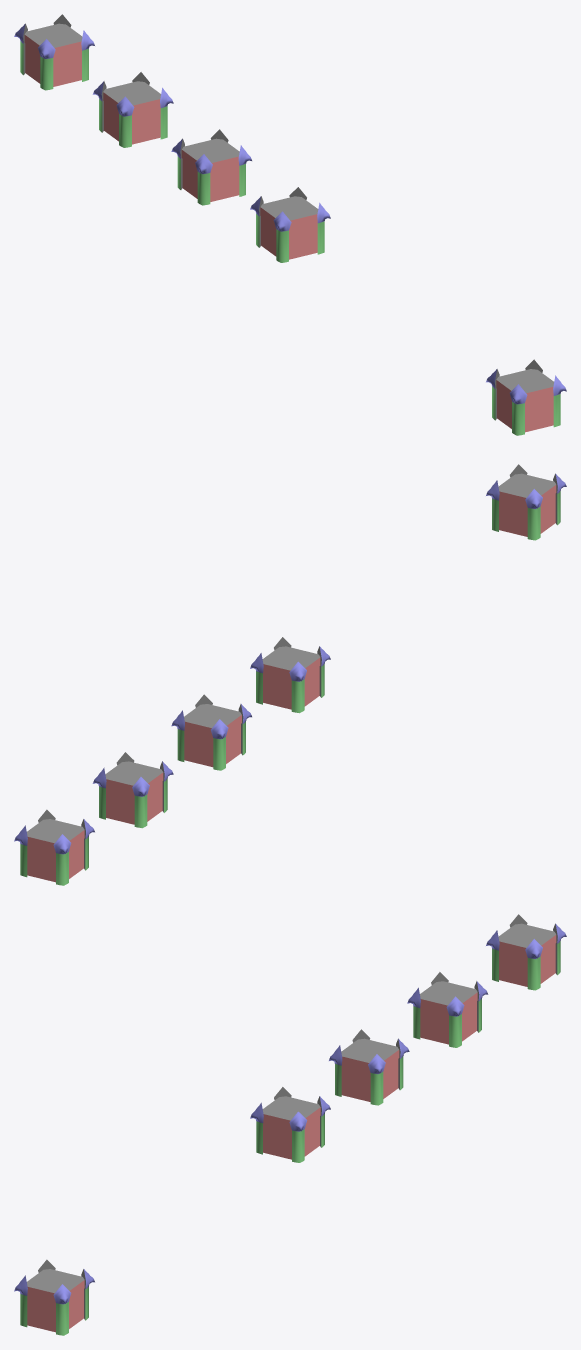
The model's file is SSQ_dungeon_S__SSQ_MRoom_pillar04.gltf.
3 renders of one model, top to bottom at view 1: azimuth 30°, elevation 25°; view 2: azimuth 150°, elevation 25°; view 3: azimuth 330°, elevation 25°, orthographic.
Visible parts, largest first — view 1: SSQ_MRoom_pillar04; view 2: SSQ_MRoom_pillar04; view 3: SSQ_MRoom_pillar04.
Part boxes in pixels (x1,y1,x2,y2): SSQ_MRoom_pillar04: [14, 14, 566, 435]; SSQ_MRoom_pillar04: [14, 464, 566, 885]; SSQ_MRoom_pillar04: [14, 914, 566, 1335].
Bounding box in the file's own units: 0.9691 × 0.892 × 16.33.
